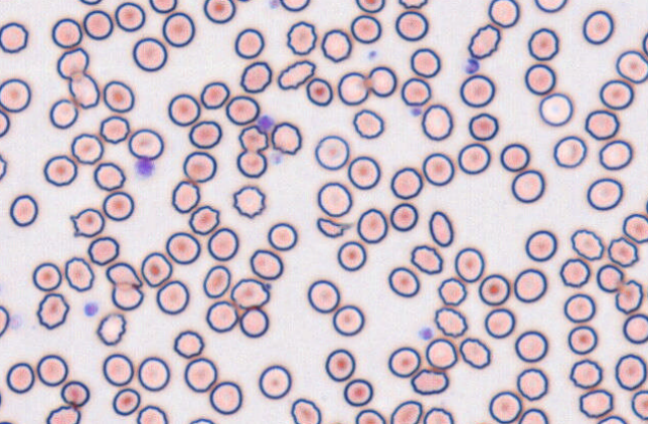PLT: (135, 157, 156, 177), (463, 57, 481, 73), (418, 325, 434, 341), (83, 301, 99, 316), (259, 115, 272, 130), (409, 105, 422, 117), (269, 0, 281, 11)
RBC: (316, 181, 352, 217), (314, 134, 349, 170), (36, 292, 69, 329), (614, 353, 647, 390), (586, 177, 623, 210), (230, 278, 270, 308), (183, 357, 217, 392), (155, 279, 189, 314), (132, 37, 167, 71), (538, 92, 573, 126), (513, 268, 547, 303), (467, 23, 500, 59), (162, 11, 195, 47), (459, 74, 495, 107), (421, 103, 453, 140), (68, 71, 99, 109), (277, 59, 315, 90), (347, 155, 381, 189), (511, 169, 545, 203), (209, 380, 242, 415), (137, 356, 170, 391), (165, 231, 200, 264), (258, 364, 291, 399), (140, 251, 172, 287), (488, 390, 522, 423), (307, 279, 340, 313), (421, 152, 454, 186), (553, 135, 587, 168), (182, 151, 217, 183), (128, 128, 163, 160), (232, 185, 265, 218), (167, 93, 200, 126), (390, 166, 423, 199), (516, 367, 548, 401), (615, 49, 647, 83), (249, 248, 283, 280), (43, 154, 77, 186), (514, 330, 548, 362), (570, 228, 604, 260), (527, 27, 559, 61), (582, 10, 614, 44), (356, 208, 387, 243), (286, 20, 317, 55), (598, 139, 633, 170), (584, 109, 619, 140), (599, 79, 634, 110), (64, 256, 94, 292), (56, 47, 89, 79), (205, 300, 238, 332), (102, 353, 134, 386), (270, 121, 302, 154), (102, 80, 134, 113), (239, 61, 272, 93), (457, 142, 490, 174), (524, 229, 557, 261), (0, 78, 31, 112), (320, 28, 351, 62), (207, 227, 238, 261), (337, 71, 368, 105), (578, 388, 613, 418), (454, 247, 484, 282), (410, 368, 448, 395), (425, 337, 457, 369), (459, 337, 491, 369), (36, 354, 68, 386), (332, 304, 364, 336), (524, 63, 556, 95), (478, 273, 510, 305), (434, 306, 467, 337), (569, 358, 602, 389), (387, 346, 420, 377), (70, 133, 103, 164), (324, 348, 355, 381), (387, 266, 420, 297), (395, 10, 428, 41), (70, 207, 104, 237), (188, 119, 222, 149), (225, 95, 259, 125), (614, 279, 643, 314), (188, 204, 220, 235), (102, 190, 134, 221), (352, 108, 384, 139), (96, 312, 126, 345), (410, 244, 443, 274), (202, 264, 231, 298), (607, 236, 638, 267), (51, 17, 82, 48), (484, 307, 515, 338), (82, 9, 113, 40), (563, 293, 595, 323), (93, 161, 125, 191), (367, 65, 397, 97), (171, 180, 200, 213), (559, 257, 590, 287), (499, 142, 530, 172), (114, 1, 145, 31), (410, 47, 440, 78), (234, 28, 264, 59), (6, 361, 35, 393), (87, 236, 119, 265), (9, 194, 38, 226), (239, 307, 269, 337), (567, 325, 597, 355), (32, 261, 62, 291), (428, 210, 453, 246), (173, 329, 204, 358), (49, 98, 78, 129), (99, 115, 130, 144), (400, 77, 431, 106), (337, 240, 366, 271), (350, 14, 381, 43), (0, 21, 28, 53), (437, 277, 467, 306), (468, 112, 498, 141), (267, 222, 297, 251), (236, 150, 267, 178), (487, 0, 519, 27), (389, 202, 418, 231), (60, 380, 90, 408), (343, 378, 373, 406), (200, 81, 230, 109), (596, 263, 624, 292), (111, 388, 140, 416), (305, 77, 333, 106), (238, 125, 268, 152), (290, 398, 321, 423), (622, 313, 647, 344), (390, 399, 422, 423), (622, 213, 647, 243), (203, 0, 235, 23), (45, 405, 81, 423), (136, 404, 168, 423), (630, 389, 647, 420), (422, 407, 454, 423), (518, 407, 548, 423), (354, 408, 386, 423), (534, 0, 567, 13), (355, 0, 385, 13), (148, 0, 177, 13), (279, 0, 310, 11), (0, 305, 10, 337), (0, 109, 10, 137), (398, 0, 428, 9), (597, 415, 627, 423), (188, 417, 216, 424), (0, 153, 7, 180), (642, 31, 648, 56), (77, 0, 102, 5), (473, 420, 499, 424), (645, 196, 648, 216), (234, 0, 255, 2)
Schistocyte: (112, 283, 145, 310), (105, 262, 142, 285), (317, 216, 350, 239)
